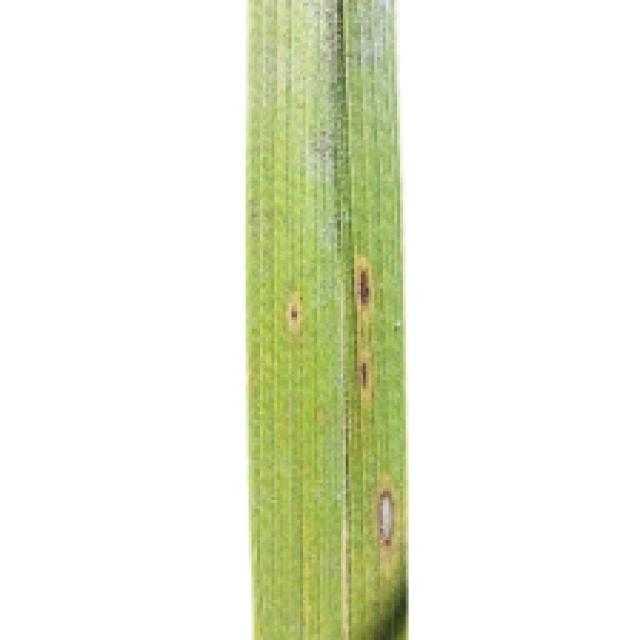Rice___Rice_Blast: (243, 0, 409, 637)
